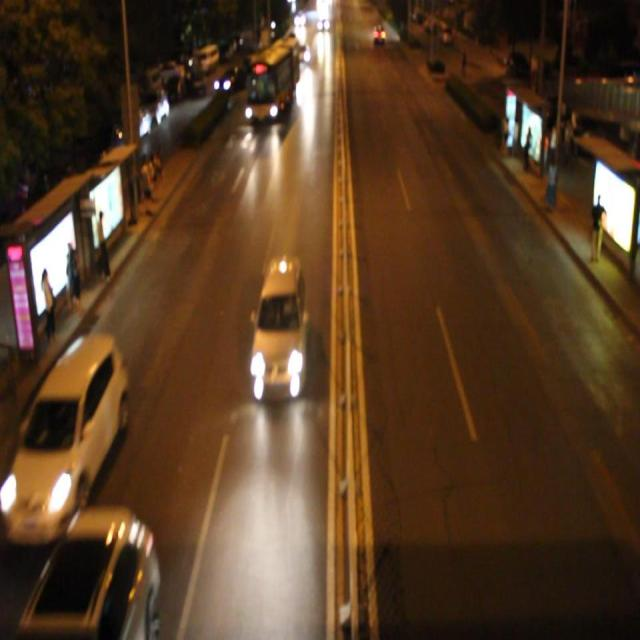car: (18, 330, 126, 545), (26, 508, 158, 640)
truck: (252, 256, 309, 402)
van: (248, 37, 301, 129)
